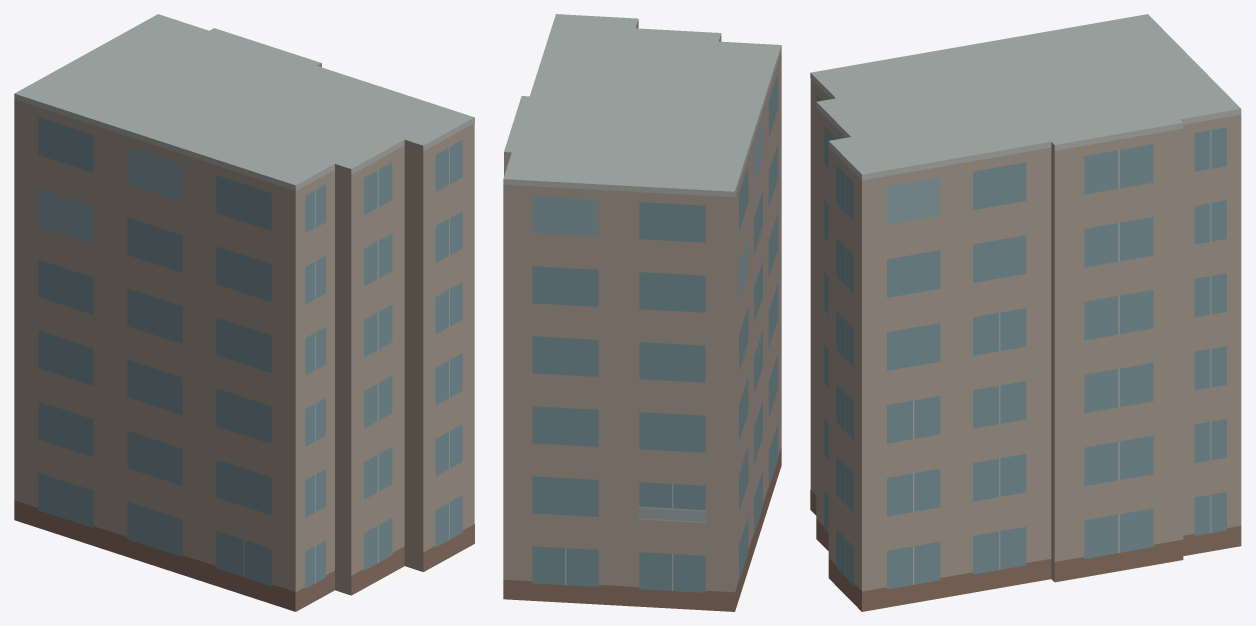
The model's file is survey-upis-32525732.glb.
3 renders of one model, left to right at view 1: azimuth 30°, elevation 25°; view 2: azimuth 150°, elevation 25°; view 3: azimuth 270°, elevation 25°, orthographic. The views are drawn at different scales.
Visible parts, largest first — view 1: survey-upis-32525732.tmp; view 2: survey-upis-32525732.tmp; view 3: survey-upis-32525732.tmp.
Part boxes in pixels (bbox=[...]): survey-upis-32525732.tmp: bbox=[14, 14, 474, 611]; survey-upis-32525732.tmp: bbox=[503, 14, 781, 611]; survey-upis-32525732.tmp: bbox=[810, 14, 1241, 611].
Bounding box in the file's own units: 14.43 × 18.3 × 16.35.
